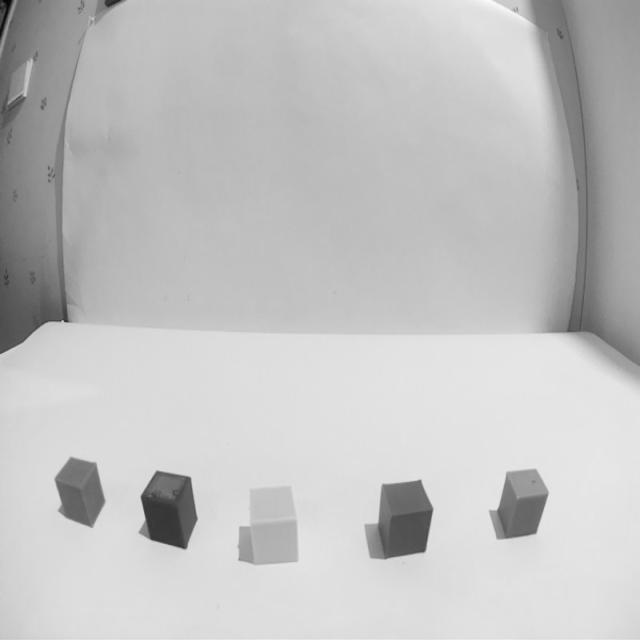cube: (377, 481, 435, 560), (140, 472, 197, 550), (247, 484, 301, 566), (54, 456, 106, 529), (497, 469, 549, 539)
